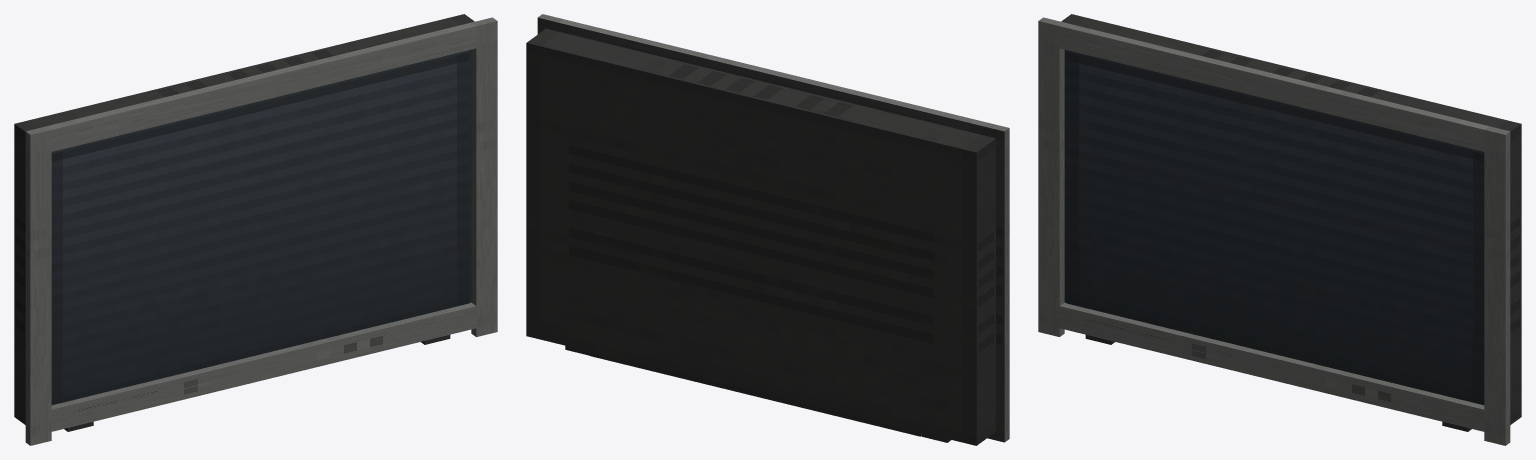
3 views of the same model, side by side, from view 1: azimuth 30°, elevation 25°; view 2: azimuth 150°, elevation 25°; view 3: azimuth 330°, elevation 25° (orthographic).
Visible parts, largest first — view 1: core_tv; view 2: core_tv; view 3: core_tv.
Boxes of the visible parts, x1,y1,x2,y2 form: core_tv: (14,14,497,445); core_tv: (526,14,1009,445); core_tv: (1038,14,1521,445).
Size of the model in its own units: 1.1 by 0.7 by 0.1.
Materials: 1 (1 with a texture image).
